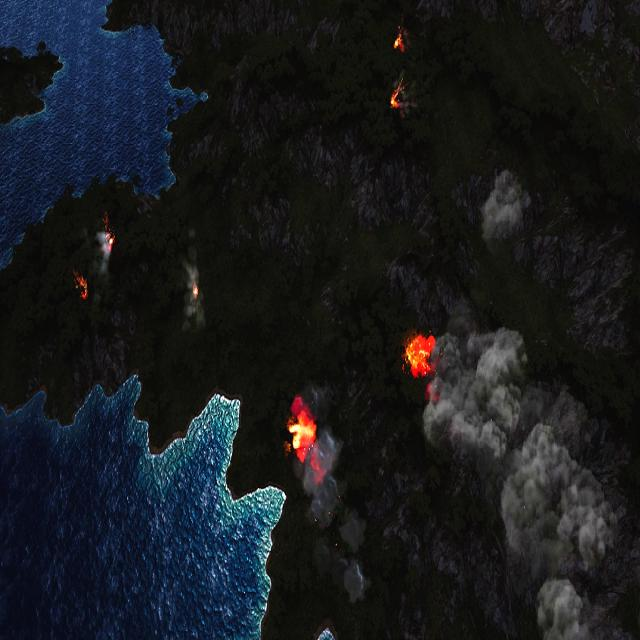fire: (288, 402, 316, 458), (404, 330, 436, 378), (389, 77, 412, 109), (393, 13, 405, 53), (74, 270, 88, 300), (103, 212, 115, 246), (191, 283, 199, 298)
smoke: (423, 316, 640, 636), (292, 376, 368, 600), (478, 169, 530, 251), (182, 226, 210, 330), (95, 229, 114, 279)
